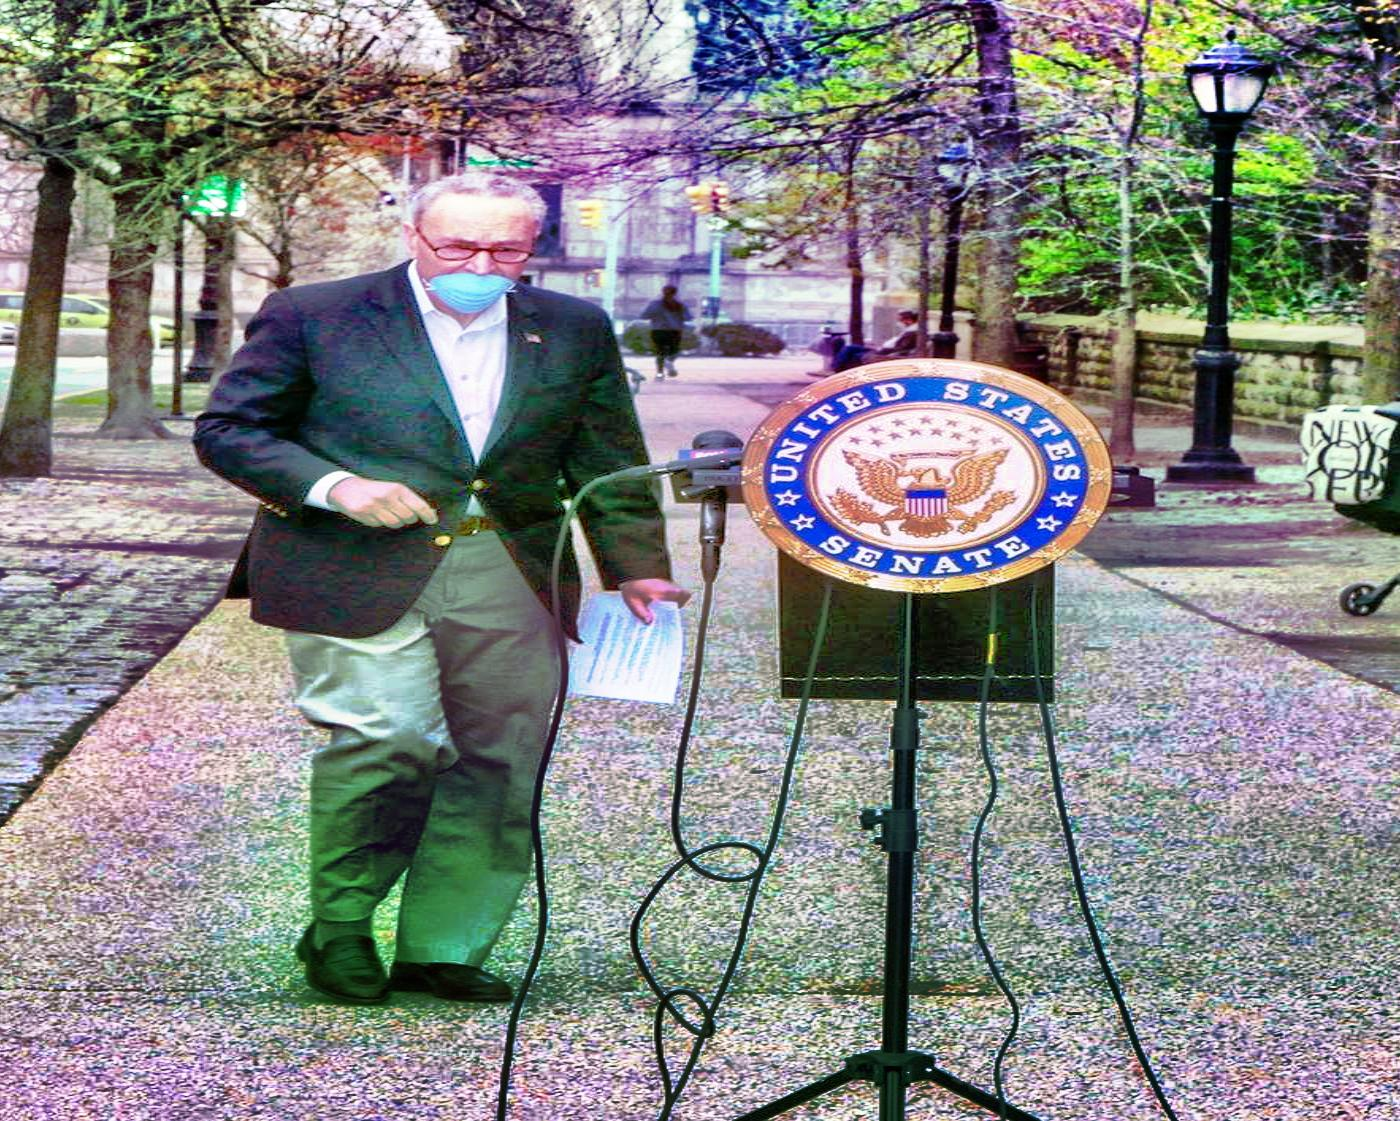mask_weared_incorrect: (397, 172, 549, 319)
